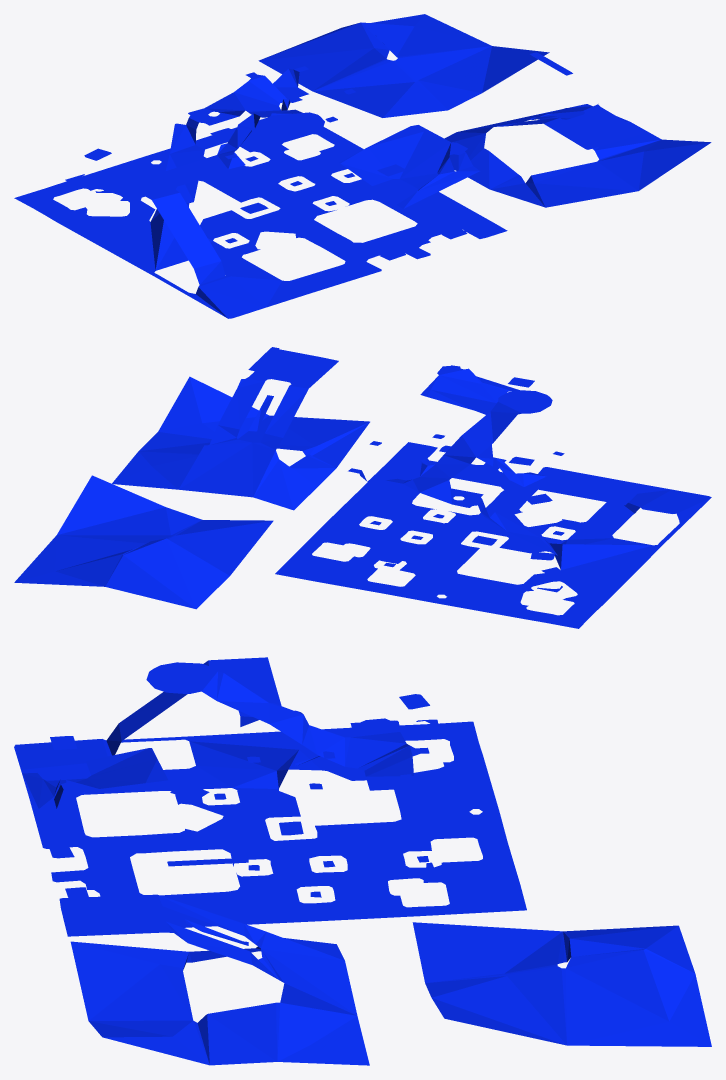
Rendered from nav.glb.
3 views of the same model, one above another, from view 1: azimuth 30°, elevation 25°; view 2: azimuth 150°, elevation 25°; view 3: azimuth 270°, elevation 25° (orthographic). The views are drawn at different scales.
Visible parts, largest first — view 1: Navmesh_Mesh; view 2: Navmesh_Mesh; view 3: Navmesh_Mesh.
Part boxes in pixels (x1,y1,x2,y2): Navmesh_Mesh: (14, 14, 711, 318); Navmesh_Mesh: (14, 347, 711, 628); Navmesh_Mesh: (14, 657, 711, 1065).
Size of the model in its own units: 17.97 by 3.8 by 15.18.
